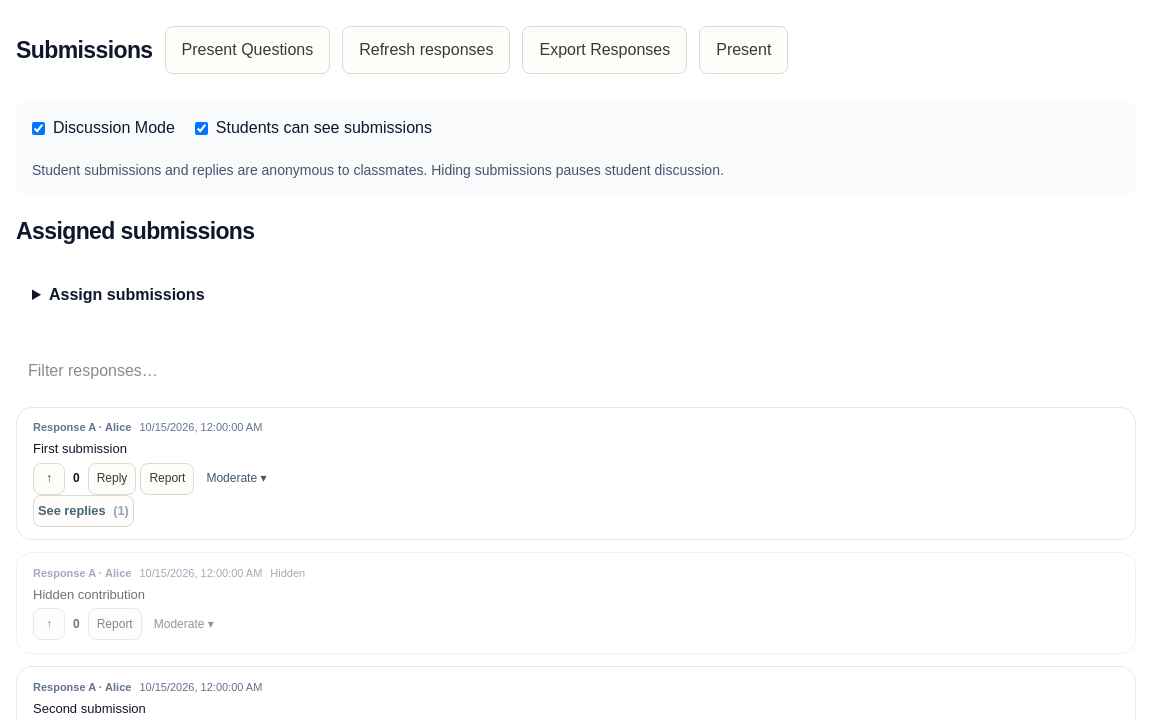
Test: presents writing contributions one at a time without author labels or replies
Click the button "Present Questions" at (247,50), box [164, 26, 330, 74]
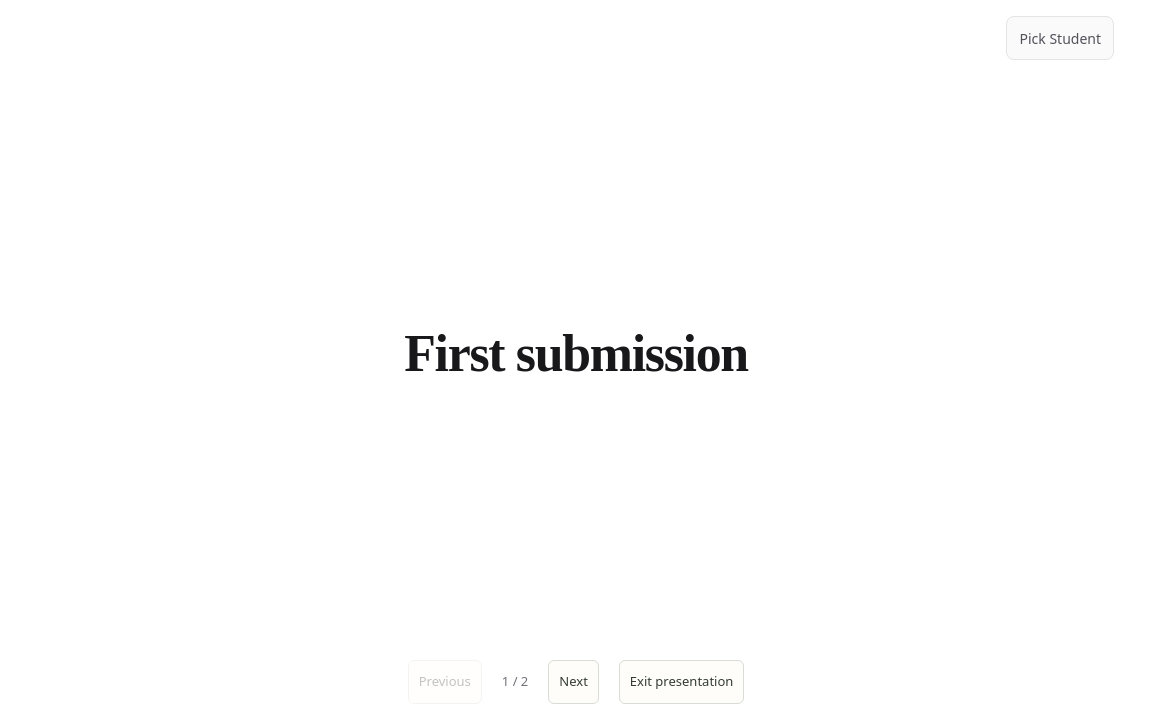
Expected: the text "First submission" is shown, [404, 320, 748, 388]
Expected: the text "1 / 2" is shown, [502, 672, 528, 692]
Press ArrowRight
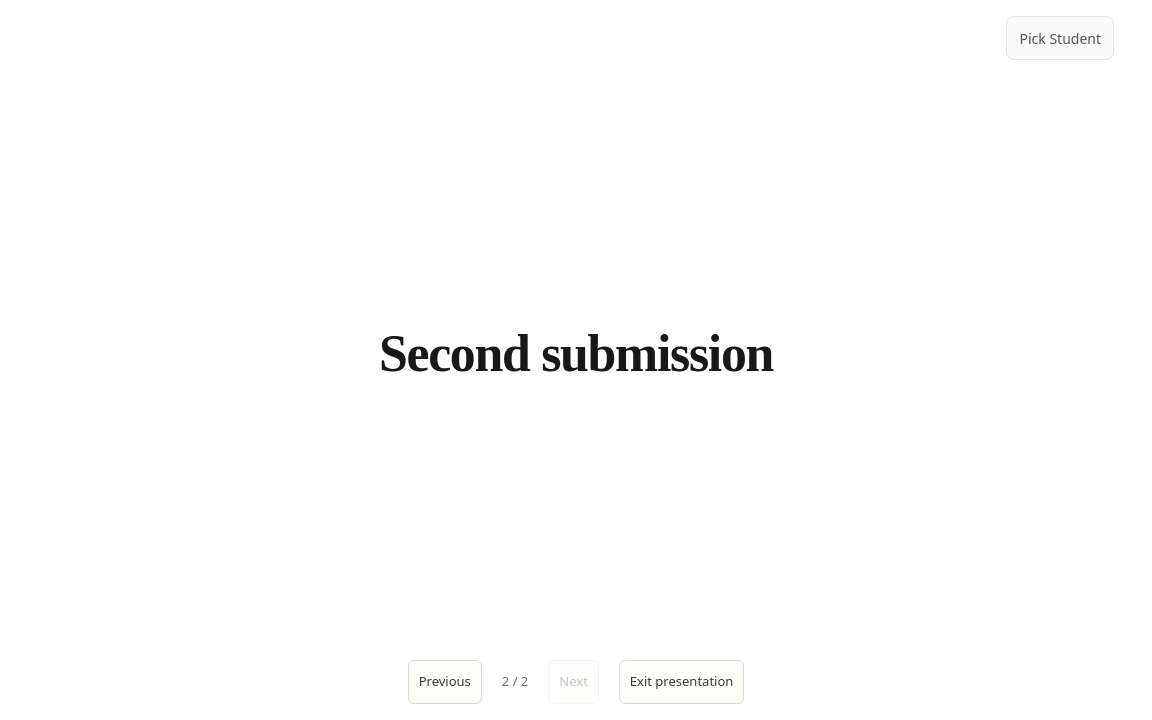
Expected: the text "Second submission" is shown, [379, 320, 773, 388]
